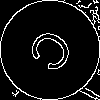C: (25, 25, 84, 82)
